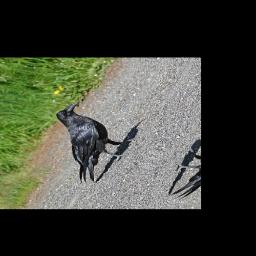Crow: (17, 101, 154, 189)
